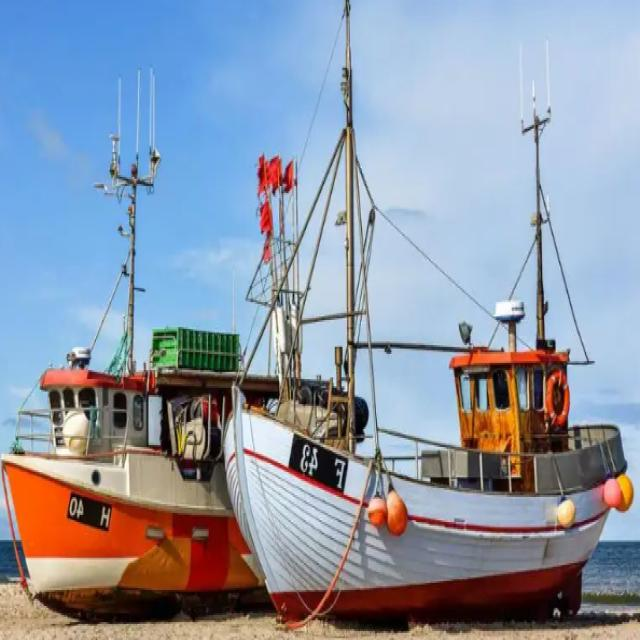fishing boat: (232, 24, 634, 612), (6, 204, 392, 614)
